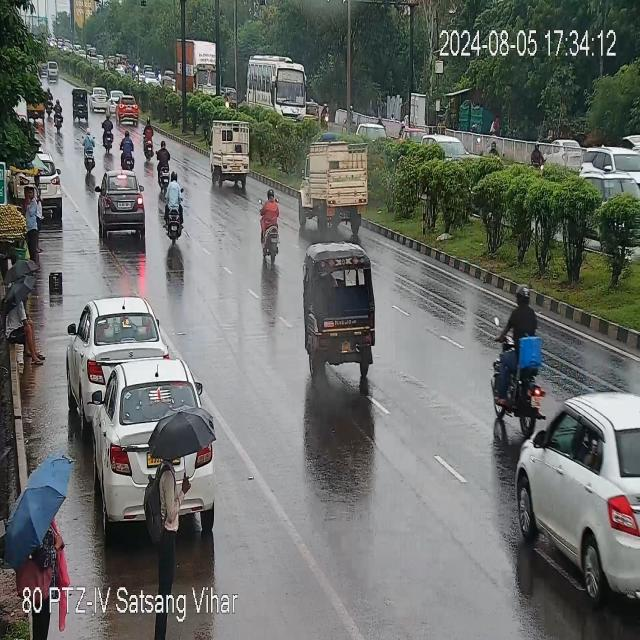2-wheelers: (489, 297, 544, 429), (162, 174, 190, 241), (260, 190, 282, 261), (80, 132, 98, 175), (156, 142, 175, 182), (532, 140, 547, 176), (120, 130, 134, 166)
auto: (310, 248, 370, 370), (210, 122, 242, 198), (25, 78, 45, 123)
bus: (244, 52, 309, 125)
car: (522, 393, 640, 613), (102, 377, 216, 522), (65, 300, 160, 416), (96, 177, 149, 242), (577, 176, 640, 223), (28, 153, 62, 216), (414, 135, 463, 173)
pedestrian: (145, 449, 180, 635), (26, 481, 60, 635), (7, 287, 40, 368), (22, 184, 40, 272)
truck: (302, 133, 365, 236), (178, 38, 230, 104)
